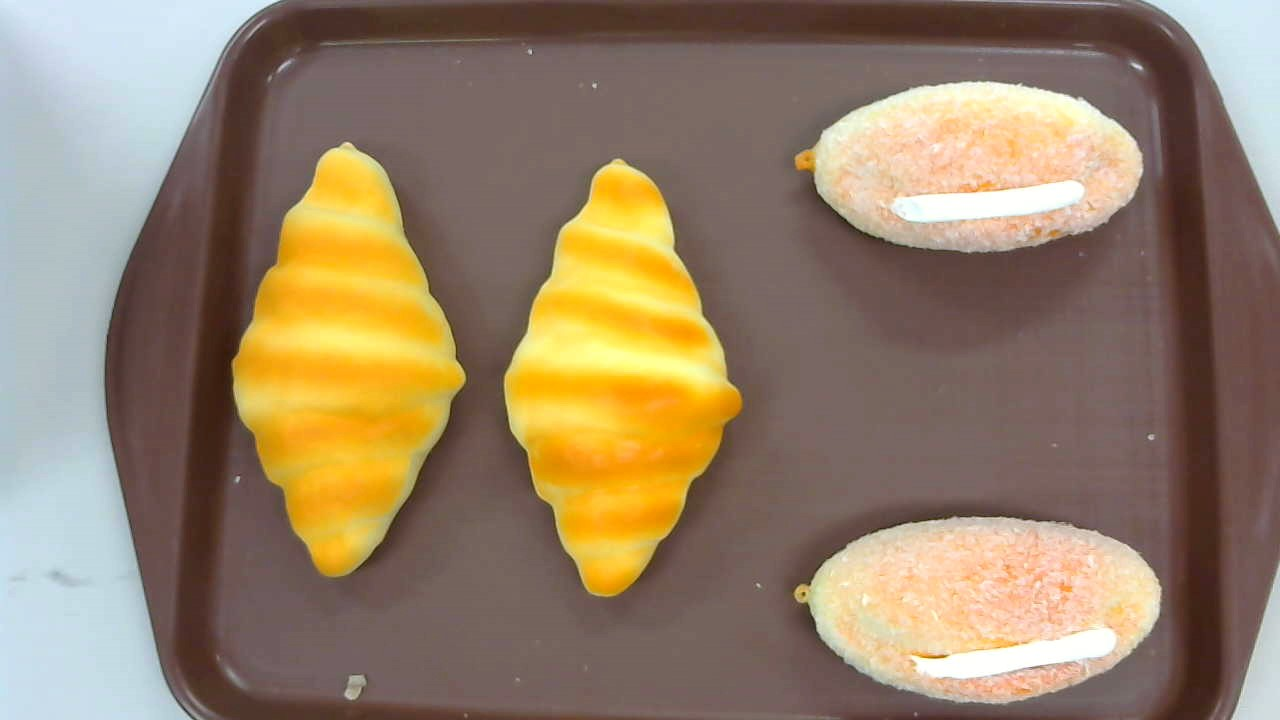coconut: (793, 516, 1162, 706), (795, 79, 1143, 253)
croissant: (502, 158, 743, 598), (230, 139, 465, 581)
